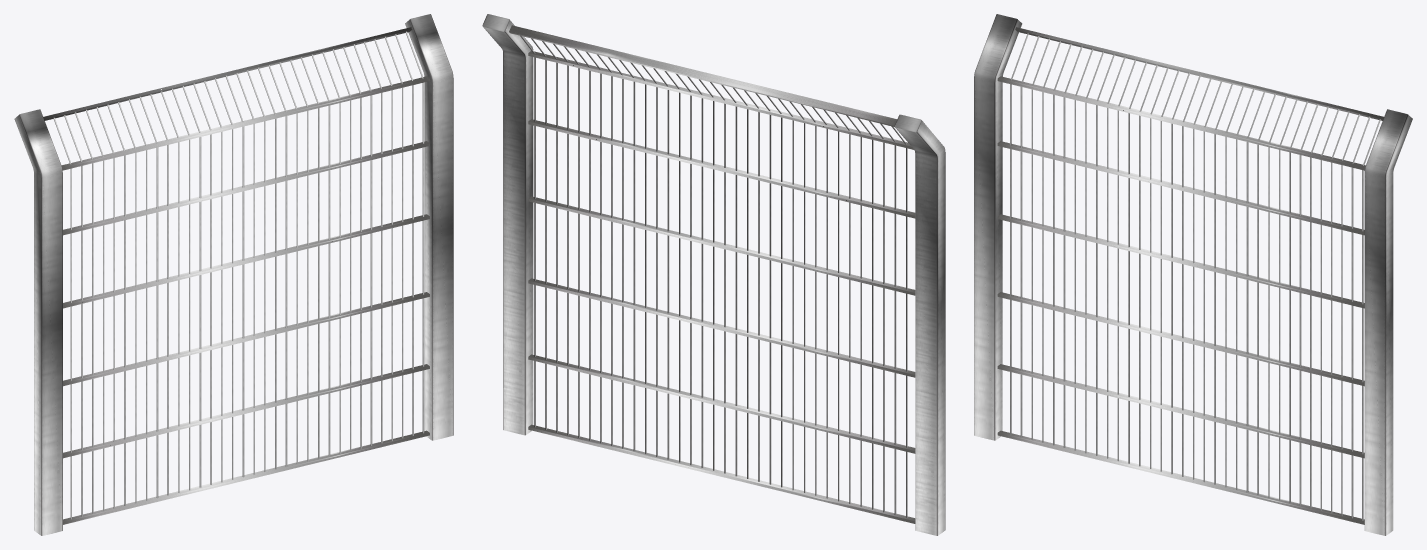
Rendered from fence4.gltf.
3 views of the same model, side by side, from view 1: azimuth 30°, elevation 25°; view 2: azimuth 150°, elevation 25°; view 3: azimuth 330°, elevation 25° (orthographic). The views are drawn at different scales.
Parts seen in each view (by area): view 1: fence_01_obj; view 2: fence_01_obj; view 3: fence_01_obj.
Boxes of the visible parts, x1,y1,x2,y2 form: fence_01_obj: [14, 14, 453, 535]; fence_01_obj: [482, 14, 945, 535]; fence_01_obj: [974, 14, 1412, 535].
Bounding box in the file's own units: 433 × 406 × 49.9.
Materials: 1 (1 with a texture image).
